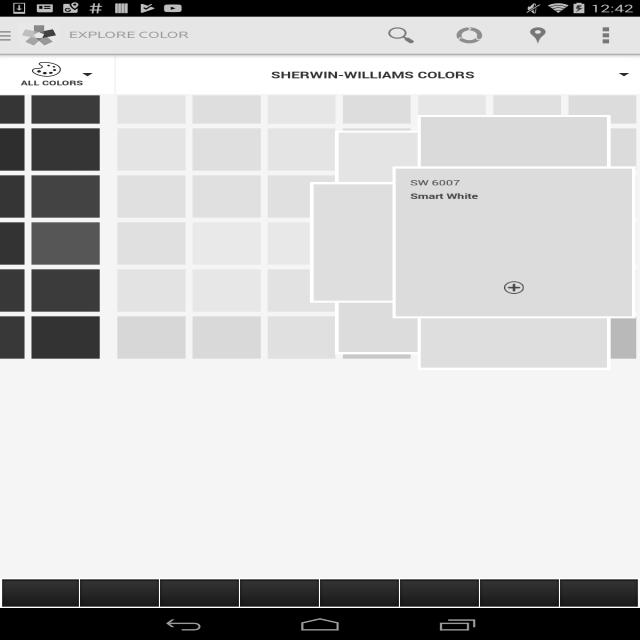ImageButton: (571, 16, 640, 54), (80, 579, 159, 607), (160, 579, 239, 607), (240, 579, 319, 607), (320, 579, 399, 607), (400, 579, 479, 607), (480, 579, 559, 607), (560, 579, 638, 607), (2, 579, 79, 607)
ImageView: (0, 54, 640, 58), (80, 579, 159, 607), (160, 579, 239, 607), (240, 579, 319, 607), (320, 579, 399, 607), (400, 579, 479, 607), (480, 579, 559, 607), (560, 579, 638, 607), (2, 579, 79, 607), (14, 19, 64, 52), (11, 62, 82, 77), (604, 379, 639, 401), (608, 371, 635, 379), (608, 401, 635, 409), (592, 381, 603, 399), (0, 30, 17, 41), (595, 374, 607, 381), (595, 399, 607, 406), (2, 248, 12, 254), (14, 248, 24, 254), (24, 248, 34, 254), (36, 248, 46, 254), (47, 248, 57, 254), (58, 248, 68, 254), (70, 248, 80, 254), (2, 257, 12, 263), (14, 257, 24, 263), (24, 257, 34, 263), (36, 257, 46, 263), (47, 257, 57, 263), (58, 257, 68, 263), (70, 257, 80, 263), (2, 264, 12, 270), (14, 264, 24, 270), (24, 264, 34, 270), (36, 264, 46, 270), (47, 264, 57, 270), (58, 264, 68, 270), (70, 264, 80, 270), (2, 271, 12, 277), (14, 271, 24, 277), (24, 271, 34, 277), (36, 271, 46, 277), (47, 271, 57, 277), (58, 271, 68, 277), (70, 271, 80, 277), (2, 278, 12, 284), (14, 278, 24, 284), (24, 278, 34, 284), (36, 278, 46, 284), (47, 278, 57, 284), (58, 278, 68, 284), (70, 278, 80, 284), (2, 285, 12, 291), (14, 285, 24, 291), (24, 285, 34, 291), (36, 285, 46, 291), (47, 285, 57, 291), (58, 285, 68, 291), (70, 285, 80, 291), (2, 292, 12, 298), (14, 292, 24, 298), (24, 292, 34, 298), (36, 292, 46, 298), (47, 292, 57, 298), (58, 292, 68, 298), (70, 292, 80, 298), (2, 299, 12, 305), (14, 299, 24, 305), (24, 299, 34, 305), (36, 299, 46, 305), (47, 299, 57, 305), (58, 299, 68, 305), (70, 299, 80, 305), (82, 248, 92, 254), (94, 248, 104, 254), (104, 248, 114, 254), (116, 248, 126, 254), (127, 248, 137, 254), (138, 248, 148, 254), (150, 248, 160, 254), (82, 257, 92, 263), (94, 257, 104, 263), (104, 257, 114, 263), (116, 257, 126, 263), (127, 257, 137, 263), (138, 257, 148, 263), (150, 257, 160, 263), (82, 264, 92, 270), (94, 264, 104, 270), (104, 264, 114, 270), (116, 264, 126, 270), (127, 264, 137, 270), (138, 264, 148, 270), (150, 264, 160, 270), (82, 271, 92, 277), (94, 271, 104, 277), (104, 271, 114, 277), (116, 271, 126, 277), (127, 271, 137, 277), (138, 271, 148, 277), (150, 271, 160, 277), (82, 278, 92, 284), (94, 278, 104, 284), (104, 278, 114, 284), (116, 278, 126, 284), (127, 278, 137, 284), (138, 278, 148, 284), (150, 278, 160, 284), (82, 285, 92, 291), (94, 285, 104, 291), (104, 285, 114, 291), (116, 285, 126, 291), (127, 285, 137, 291), (138, 285, 148, 291), (150, 285, 160, 291), (82, 292, 92, 298), (94, 292, 104, 298), (104, 292, 114, 298), (116, 292, 126, 298), (127, 292, 137, 298), (138, 292, 148, 298), (150, 292, 160, 298), (82, 299, 92, 305), (94, 299, 104, 305), (104, 299, 114, 305), (116, 299, 126, 305), (127, 299, 137, 305), (138, 299, 148, 305), (150, 299, 160, 305), (162, 248, 172, 254), (174, 248, 184, 254), (184, 248, 194, 254), (196, 248, 206, 254), (207, 248, 217, 254), (218, 248, 228, 254), (230, 248, 240, 254), (162, 257, 172, 263), (174, 257, 184, 263), (184, 257, 194, 263), (196, 257, 206, 263), (207, 257, 217, 263), (218, 257, 228, 263), (230, 257, 240, 263), (162, 264, 172, 270), (174, 264, 184, 270), (184, 264, 194, 270), (196, 264, 206, 270), (207, 264, 217, 270), (218, 264, 228, 270), (230, 264, 240, 270), (162, 271, 172, 277), (174, 271, 184, 277), (184, 271, 194, 277), (196, 271, 206, 277), (207, 271, 217, 277), (218, 271, 228, 277), (230, 271, 240, 277), (162, 278, 172, 284), (174, 278, 184, 284), (184, 278, 194, 284), (196, 278, 206, 284), (207, 278, 217, 284), (218, 278, 228, 284), (230, 278, 240, 284), (162, 285, 172, 291), (174, 285, 184, 291), (184, 285, 194, 291), (196, 285, 206, 291), (207, 285, 217, 291), (218, 285, 228, 291), (230, 285, 240, 291), (162, 292, 172, 298), (174, 292, 184, 298), (184, 292, 194, 298), (196, 292, 206, 298), (207, 292, 217, 298), (218, 292, 228, 298), (230, 292, 240, 298), (162, 299, 172, 305), (174, 299, 184, 305), (184, 299, 194, 305), (196, 299, 206, 305), (207, 299, 217, 305), (218, 299, 228, 305), (230, 299, 240, 305), (242, 248, 252, 254), (254, 248, 264, 254), (264, 248, 274, 254), (276, 248, 286, 254), (287, 248, 297, 254), (298, 248, 308, 254), (310, 248, 320, 254), (242, 257, 252, 263), (254, 257, 264, 263), (264, 257, 274, 263), (276, 257, 286, 263), (287, 257, 297, 263), (298, 257, 308, 263), (310, 257, 320, 263), (242, 264, 252, 270), (254, 264, 264, 270), (264, 264, 274, 270), (276, 264, 286, 270), (287, 264, 297, 270), (298, 264, 308, 270), (310, 264, 320, 270), (242, 271, 252, 277), (254, 271, 264, 277), (264, 271, 274, 277), (276, 271, 286, 277), (287, 271, 297, 277), (298, 271, 308, 277), (310, 271, 320, 277), (242, 278, 252, 284), (254, 278, 264, 284), (264, 278, 274, 284), (276, 278, 286, 284), (287, 278, 297, 284), (298, 278, 308, 284), (310, 278, 320, 284), (242, 285, 252, 291), (254, 285, 264, 291), (264, 285, 274, 291), (276, 285, 286, 291), (287, 285, 297, 291), (298, 285, 308, 291), (310, 285, 320, 291), (242, 292, 252, 298), (254, 292, 264, 298), (264, 292, 274, 298), (276, 292, 286, 298), (287, 292, 297, 298), (298, 292, 308, 298), (310, 292, 320, 298), (242, 299, 252, 305), (254, 299, 264, 305), (264, 299, 274, 305), (276, 299, 286, 305), (287, 299, 297, 305), (298, 299, 308, 305), (310, 299, 320, 305), (322, 248, 332, 254), (334, 248, 344, 254), (344, 248, 354, 254), (356, 248, 366, 254), (367, 248, 377, 254), (378, 248, 388, 254), (390, 248, 400, 254), (322, 257, 332, 263), (334, 257, 344, 263), (344, 257, 354, 263), (356, 257, 366, 263), (367, 257, 377, 263), (378, 257, 388, 263), (390, 257, 400, 263), (322, 264, 332, 270), (334, 264, 344, 270), (344, 264, 354, 270), (356, 264, 366, 270), (367, 264, 377, 270), (378, 264, 388, 270), (390, 264, 400, 270), (322, 271, 332, 277), (334, 271, 344, 277), (344, 271, 354, 277), (356, 271, 366, 277), (367, 271, 377, 277), (378, 271, 388, 277), (390, 271, 400, 277), (322, 278, 332, 284), (334, 278, 344, 284), (344, 278, 354, 284), (356, 278, 366, 284), (367, 278, 377, 284), (378, 278, 388, 284), (390, 278, 400, 284), (322, 285, 332, 291), (334, 285, 344, 291), (344, 285, 354, 291), (356, 285, 366, 291), (367, 285, 377, 291), (378, 285, 388, 291), (390, 285, 400, 291), (322, 292, 332, 298), (334, 292, 344, 298), (344, 292, 354, 298), (356, 292, 366, 298), (367, 292, 377, 298), (378, 292, 388, 298), (390, 292, 400, 298), (322, 299, 332, 305), (334, 299, 344, 305), (344, 299, 354, 305), (356, 299, 366, 305), (367, 299, 377, 305), (378, 299, 388, 305), (390, 299, 400, 305), (402, 248, 412, 254), (414, 248, 424, 254), (424, 248, 434, 254), (436, 248, 446, 254), (447, 248, 457, 254), (458, 248, 468, 254), (470, 248, 480, 254), (402, 257, 412, 263), (414, 257, 424, 263), (424, 257, 434, 263), (436, 257, 446, 263), (447, 257, 457, 263), (458, 257, 468, 263), (470, 257, 480, 263), (402, 264, 412, 270), (414, 264, 424, 270), (424, 264, 434, 270), (436, 264, 446, 270), (447, 264, 457, 270), (458, 264, 468, 270), (470, 264, 480, 270), (402, 271, 412, 277), (414, 271, 424, 277), (424, 271, 434, 277), (436, 271, 446, 277), (447, 271, 457, 277), (458, 271, 468, 277), (470, 271, 480, 277), (402, 278, 412, 284), (414, 278, 424, 284), (424, 278, 434, 284), (436, 278, 446, 284), (447, 278, 457, 284), (458, 278, 468, 284), (470, 278, 480, 284), (402, 285, 412, 291), (414, 285, 424, 291), (424, 285, 434, 291), (436, 285, 446, 291), (447, 285, 457, 291), (458, 285, 468, 291), (470, 285, 480, 291), (402, 292, 412, 298), (414, 292, 424, 298), (424, 292, 434, 298), (436, 292, 446, 298), (447, 292, 457, 298), (458, 292, 468, 298), (470, 292, 480, 298), (402, 299, 412, 305), (414, 299, 424, 305), (424, 299, 434, 305), (436, 299, 446, 305), (447, 299, 457, 305), (458, 299, 468, 305), (470, 299, 480, 305), (482, 248, 492, 254), (494, 248, 504, 254), (504, 248, 514, 254), (516, 248, 526, 254), (527, 248, 537, 254), (538, 248, 548, 254), (550, 248, 560, 254), (482, 257, 492, 263), (494, 257, 504, 263), (504, 257, 514, 263), (516, 257, 526, 263), (527, 257, 537, 263), (538, 257, 548, 263), (550, 257, 560, 263), (482, 264, 492, 270), (494, 264, 504, 270), (504, 264, 514, 270), (516, 264, 526, 270), (527, 264, 537, 270), (538, 264, 548, 270), (550, 264, 560, 270), (482, 271, 492, 277), (494, 271, 504, 277), (504, 271, 514, 277), (516, 271, 526, 277), (527, 271, 537, 277), (538, 271, 548, 277), (550, 271, 560, 277), (482, 278, 492, 284), (494, 278, 504, 284), (504, 278, 514, 284), (516, 278, 526, 284), (527, 278, 537, 284), (538, 278, 548, 284), (550, 278, 560, 284), (482, 285, 492, 291), (494, 285, 504, 291), (504, 285, 514, 291), (516, 285, 526, 291), (527, 285, 537, 291), (538, 285, 548, 291), (550, 285, 560, 291), (482, 292, 492, 298), (494, 292, 504, 298), (504, 292, 514, 298), (516, 292, 526, 298), (527, 292, 537, 298), (538, 292, 548, 298), (550, 292, 560, 298), (482, 299, 492, 305), (494, 299, 504, 305), (504, 299, 514, 305), (516, 299, 526, 305), (527, 299, 537, 305), (538, 299, 548, 305), (550, 299, 560, 305), (562, 248, 572, 254), (574, 248, 584, 254), (584, 248, 594, 254), (596, 248, 606, 254), (607, 248, 617, 254), (618, 248, 628, 254), (630, 248, 640, 254), (562, 257, 572, 263), (574, 257, 584, 263), (584, 257, 594, 263), (596, 257, 606, 263), (607, 257, 617, 263), (618, 257, 628, 263), (630, 257, 640, 263), (562, 264, 572, 270), (574, 264, 584, 270), (584, 264, 594, 270), (596, 264, 606, 270), (607, 264, 617, 270), (618, 264, 628, 270), (630, 264, 640, 270), (562, 271, 572, 277), (574, 271, 584, 277), (584, 271, 594, 277), (596, 271, 606, 277), (607, 271, 617, 277), (618, 271, 628, 277), (630, 271, 640, 277), (562, 278, 572, 284), (574, 278, 584, 284), (584, 278, 594, 284), (596, 278, 606, 284), (607, 278, 617, 284), (618, 278, 628, 284), (630, 278, 640, 284), (562, 285, 572, 291), (574, 285, 584, 291), (584, 285, 594, 291), (596, 285, 606, 291), (607, 285, 617, 291), (618, 285, 628, 291), (630, 285, 640, 291), (562, 292, 572, 298), (574, 292, 584, 298), (584, 292, 594, 298), (596, 292, 606, 298), (607, 292, 617, 298), (618, 292, 628, 298), (630, 292, 640, 298), (562, 299, 572, 305), (574, 299, 584, 305), (584, 299, 594, 305), (596, 299, 606, 305), (607, 299, 617, 305), (618, 299, 628, 305), (630, 299, 640, 305), (2, 308, 12, 314), (14, 308, 24, 314), (24, 308, 34, 314), (36, 308, 46, 314), (47, 308, 57, 314), (58, 308, 68, 314), (70, 308, 80, 314), (2, 315, 12, 321), (14, 315, 24, 321), (24, 315, 34, 321), (36, 315, 46, 321), (47, 315, 57, 321), (58, 315, 68, 321), (70, 315, 80, 321), (2, 322, 12, 328), (14, 322, 24, 328), (24, 322, 34, 328), (36, 322, 46, 328), (47, 322, 57, 328), (58, 322, 68, 328), (70, 322, 80, 328), (2, 329, 12, 335), (14, 329, 24, 335), (24, 329, 34, 335), (36, 329, 46, 335), (47, 329, 57, 335), (58, 329, 68, 335), (70, 329, 80, 335), (2, 336, 12, 342), (14, 336, 24, 342), (24, 336, 34, 342), (36, 336, 46, 342), (47, 336, 57, 342), (58, 336, 68, 342), (70, 336, 80, 342), (2, 343, 12, 349), (14, 343, 24, 349), (24, 343, 34, 349), (36, 343, 46, 349), (47, 343, 57, 349), (58, 343, 68, 349), (70, 343, 80, 349), (2, 350, 12, 356), (14, 350, 24, 356), (24, 350, 34, 356), (36, 350, 46, 356), (47, 350, 57, 356), (58, 350, 68, 356), (70, 350, 80, 356), (82, 308, 92, 314), (94, 308, 104, 314), (104, 308, 114, 314), (116, 308, 126, 314), (127, 308, 137, 314), (138, 308, 148, 314), (150, 308, 160, 314), (82, 315, 92, 321), (94, 315, 104, 321), (104, 315, 114, 321), (116, 315, 126, 321), (127, 315, 137, 321), (138, 315, 148, 321), (150, 315, 160, 321), (82, 322, 92, 328), (94, 322, 104, 328), (104, 322, 114, 328), (116, 322, 126, 328), (127, 322, 137, 328), (138, 322, 148, 328), (150, 322, 160, 328), (82, 329, 92, 335), (94, 329, 104, 335), (104, 329, 114, 335), (116, 329, 126, 335), (127, 329, 137, 335), (138, 329, 148, 335), (150, 329, 160, 335), (82, 336, 92, 342), (94, 336, 104, 342), (104, 336, 114, 342), (116, 336, 126, 342), (127, 336, 137, 342), (138, 336, 148, 342), (150, 336, 160, 342), (82, 343, 92, 349), (94, 343, 104, 349), (104, 343, 114, 349), (116, 343, 126, 349), (127, 343, 137, 349), (138, 343, 148, 349), (150, 343, 160, 349), (82, 350, 92, 356), (94, 350, 104, 356), (104, 350, 114, 356), (116, 350, 126, 356), (127, 350, 137, 356), (138, 350, 148, 356), (150, 350, 160, 356), (162, 308, 172, 314), (174, 308, 184, 314), (184, 308, 194, 314), (196, 308, 206, 314), (207, 308, 217, 314), (218, 308, 228, 314), (230, 308, 240, 314), (162, 315, 172, 321), (174, 315, 184, 321), (184, 315, 194, 321), (196, 315, 206, 321), (207, 315, 217, 321), (218, 315, 228, 321), (230, 315, 240, 321), (162, 322, 172, 328), (174, 322, 184, 328), (184, 322, 194, 328), (196, 322, 206, 328), (207, 322, 217, 328), (218, 322, 228, 328), (230, 322, 240, 328), (162, 329, 172, 335), (174, 329, 184, 335), (184, 329, 194, 335), (196, 329, 206, 335), (207, 329, 217, 335), (218, 329, 228, 335), (230, 329, 240, 335), (162, 336, 172, 342), (174, 336, 184, 342), (184, 336, 194, 342), (196, 336, 206, 342), (207, 336, 217, 342), (218, 336, 228, 342), (230, 336, 240, 342), (162, 343, 172, 349), (174, 343, 184, 349), (184, 343, 194, 349), (196, 343, 206, 349), (207, 343, 217, 349), (218, 343, 228, 349), (230, 343, 240, 349), (162, 350, 172, 356), (174, 350, 184, 356), (184, 350, 194, 356), (196, 350, 206, 356), (207, 350, 217, 356), (218, 350, 228, 356), (230, 350, 240, 356), (242, 308, 252, 314), (254, 308, 264, 314), (264, 308, 274, 314), (276, 308, 286, 314), (287, 308, 297, 314), (298, 308, 308, 314), (310, 308, 320, 314), (242, 315, 252, 321), (254, 315, 264, 321), (264, 315, 274, 321), (276, 315, 286, 321), (287, 315, 297, 321), (298, 315, 308, 321), (310, 315, 320, 321), (242, 322, 252, 328), (254, 322, 264, 328), (264, 322, 274, 328), (276, 322, 286, 328), (287, 322, 297, 328), (298, 322, 308, 328), (310, 322, 320, 328), (242, 329, 252, 335), (254, 329, 264, 335), (264, 329, 274, 335), (276, 329, 286, 335), (287, 329, 297, 335), (298, 329, 308, 335), (310, 329, 320, 335), (242, 336, 252, 342), (254, 336, 264, 342), (264, 336, 274, 342), (276, 336, 286, 342), (287, 336, 297, 342), (298, 336, 308, 342), (310, 336, 320, 342), (242, 343, 252, 349), (254, 343, 264, 349), (264, 343, 274, 349), (276, 343, 286, 349), (287, 343, 297, 349), (298, 343, 308, 349), (310, 343, 320, 349), (242, 350, 252, 356), (254, 350, 264, 356), (264, 350, 274, 356), (276, 350, 286, 356), (287, 350, 297, 356), (298, 350, 308, 356), (310, 350, 320, 356), (322, 308, 332, 314), (334, 308, 344, 314), (344, 308, 354, 314), (356, 308, 366, 314), (367, 308, 377, 314), (378, 308, 388, 314), (390, 308, 400, 314), (322, 315, 332, 321), (334, 315, 344, 321), (344, 315, 354, 321), (356, 315, 366, 321), (367, 315, 377, 321), (378, 315, 388, 321), (390, 315, 400, 321), (322, 322, 332, 328), (334, 322, 344, 328), (344, 322, 354, 328), (356, 322, 366, 328), (367, 322, 377, 328), (378, 322, 388, 328), (390, 322, 400, 328), (322, 329, 332, 335), (334, 329, 344, 335), (344, 329, 354, 335), (356, 329, 366, 335), (367, 329, 377, 335), (378, 329, 388, 335), (390, 329, 400, 335), (322, 336, 332, 342), (334, 336, 344, 342), (344, 336, 354, 342), (356, 336, 366, 342), (367, 336, 377, 342), (378, 336, 388, 342), (390, 336, 400, 342), (322, 343, 332, 349), (334, 343, 344, 349), (344, 343, 354, 349), (356, 343, 366, 349), (367, 343, 377, 349), (378, 343, 388, 349), (390, 343, 400, 349), (322, 350, 332, 356), (334, 350, 344, 356), (344, 350, 354, 356), (356, 350, 366, 356), (367, 350, 377, 356), (378, 350, 388, 356), (390, 350, 400, 356), (402, 308, 412, 314), (414, 308, 424, 314), (424, 308, 434, 314), (436, 308, 446, 314), (447, 308, 457, 314), (458, 308, 468, 314), (470, 308, 480, 314), (402, 315, 412, 321), (414, 315, 424, 321), (424, 315, 434, 321), (436, 315, 446, 321), (447, 315, 457, 321), (458, 315, 468, 321), (470, 315, 480, 321), (402, 322, 412, 328), (414, 322, 424, 328), (424, 322, 434, 328), (436, 322, 446, 328), (447, 322, 457, 328), (458, 322, 468, 328), (470, 322, 480, 328), (402, 329, 412, 335), (414, 329, 424, 335), (424, 329, 434, 335), (436, 329, 446, 335), (447, 329, 457, 335), (458, 329, 468, 335), (470, 329, 480, 335), (402, 336, 412, 342), (414, 336, 424, 342), (424, 336, 434, 342), (436, 336, 446, 342), (447, 336, 457, 342), (458, 336, 468, 342), (470, 336, 480, 342), (402, 343, 412, 349), (414, 343, 424, 349), (424, 343, 434, 349), (436, 343, 446, 349), (447, 343, 457, 349), (458, 343, 468, 349), (470, 343, 480, 349), (402, 350, 412, 356), (414, 350, 424, 356), (424, 350, 434, 356), (436, 350, 446, 356), (447, 350, 457, 356), (458, 350, 468, 356), (470, 350, 480, 356), (482, 308, 492, 314), (494, 308, 504, 314), (504, 308, 514, 314), (516, 308, 526, 314), (527, 308, 537, 314), (538, 308, 548, 314), (550, 308, 560, 314), (482, 315, 492, 321), (494, 315, 504, 321), (504, 315, 514, 321), (516, 315, 526, 321), (527, 315, 537, 321), (538, 315, 548, 321), (550, 315, 560, 321), (482, 322, 492, 328), (494, 322, 504, 328), (504, 322, 514, 328), (516, 322, 526, 328), (527, 322, 537, 328), (538, 322, 548, 328), (550, 322, 560, 328), (482, 329, 492, 335), (494, 329, 504, 335), (504, 329, 514, 335), (516, 329, 526, 335), (527, 329, 537, 335), (538, 329, 548, 335), (550, 329, 560, 335), (482, 336, 492, 342), (494, 336, 504, 342), (504, 336, 514, 342), (516, 336, 526, 342), (527, 336, 537, 342), (538, 336, 548, 342), (550, 336, 560, 342), (482, 343, 492, 349), (494, 343, 504, 349), (504, 343, 514, 349), (516, 343, 526, 349), (527, 343, 537, 349), (538, 343, 548, 349), (550, 343, 560, 349), (482, 350, 492, 356), (494, 350, 504, 356), (504, 350, 514, 356), (516, 350, 526, 356), (527, 350, 537, 356), (538, 350, 548, 356), (550, 350, 560, 356), (562, 308, 572, 314), (574, 308, 584, 314), (584, 308, 594, 314), (596, 308, 606, 314), (607, 308, 617, 314), (618, 308, 628, 314), (630, 308, 640, 314), (562, 315, 572, 321), (574, 315, 584, 321), (584, 315, 594, 321), (596, 315, 606, 321), (607, 315, 617, 321), (618, 315, 628, 321), (630, 315, 640, 321), (562, 322, 572, 328), (574, 322, 584, 328), (584, 322, 594, 328), (596, 322, 606, 328), (607, 322, 617, 328), (618, 322, 628, 328), (630, 322, 640, 328), (562, 329, 572, 335), (574, 329, 584, 335), (584, 329, 594, 335), (596, 329, 606, 335), (607, 329, 617, 335), (618, 329, 628, 335), (630, 329, 640, 335), (562, 336, 572, 342), (574, 336, 584, 342), (584, 336, 594, 342), (596, 336, 606, 342), (607, 336, 617, 342), (618, 336, 628, 342), (630, 336, 640, 342), (562, 343, 572, 349), (574, 343, 584, 349), (584, 343, 594, 349), (596, 343, 606, 349), (607, 343, 617, 349), (618, 343, 628, 349), (630, 343, 640, 349), (562, 350, 572, 356), (574, 350, 584, 356), (584, 350, 594, 356), (596, 350, 606, 356), (607, 350, 617, 356), (618, 350, 628, 356), (630, 350, 640, 356), (2, 359, 12, 365), (14, 359, 24, 365), (24, 359, 34, 365), (36, 359, 46, 365), (47, 359, 57, 365), (58, 359, 68, 365), (70, 359, 80, 365), (2, 366, 12, 372), (14, 366, 24, 372), (24, 366, 34, 372), (36, 366, 46, 372), (47, 366, 57, 372), (58, 366, 68, 372), (70, 366, 80, 372), (2, 373, 12, 379), (14, 373, 24, 379), (24, 373, 34, 379), (36, 373, 46, 379), (47, 373, 57, 379), (58, 373, 68, 379), (70, 373, 80, 379), (2, 380, 12, 386), (14, 380, 24, 386), (24, 380, 34, 386), (36, 380, 46, 386), (47, 380, 57, 386), (58, 380, 68, 386), (70, 380, 80, 386), (2, 387, 12, 393), (14, 387, 24, 393), (24, 387, 34, 393), (36, 387, 46, 393), (47, 387, 57, 393), (58, 387, 68, 393), (70, 387, 80, 393), (2, 394, 12, 400), (14, 394, 24, 400), (24, 394, 34, 400), (36, 394, 46, 400), (47, 394, 57, 400), (58, 394, 68, 400), (70, 394, 80, 400), (2, 401, 12, 407), (14, 401, 24, 407), (24, 401, 34, 407), (36, 401, 46, 407), (47, 401, 57, 407), (58, 401, 68, 407), (70, 401, 80, 407), (82, 359, 92, 365), (94, 359, 104, 365), (104, 359, 114, 365), (116, 359, 126, 365), (127, 359, 137, 365), (138, 359, 148, 365), (150, 359, 160, 365), (82, 366, 92, 372), (94, 366, 104, 372), (104, 366, 114, 372), (116, 366, 126, 372), (127, 366, 137, 372), (138, 366, 148, 372), (150, 366, 160, 372), (82, 373, 92, 379), (94, 373, 104, 379), (104, 373, 114, 379), (116, 373, 126, 379), (127, 373, 137, 379), (138, 373, 148, 379), (150, 373, 160, 379), (82, 380, 92, 386), (94, 380, 104, 386), (104, 380, 114, 386), (116, 380, 126, 386), (127, 380, 137, 386), (138, 380, 148, 386), (150, 380, 160, 386), (82, 387, 92, 393), (94, 387, 104, 393), (104, 387, 114, 393), (116, 387, 126, 393), (127, 387, 137, 393), (138, 387, 148, 393), (150, 387, 160, 393), (82, 394, 92, 400), (94, 394, 104, 400), (104, 394, 114, 400), (116, 394, 126, 400), (127, 394, 137, 400), (138, 394, 148, 400), (150, 394, 160, 400), (82, 401, 92, 407), (94, 401, 104, 407), (104, 401, 114, 407), (116, 401, 126, 407), (127, 401, 137, 407), (138, 401, 148, 407), (150, 401, 160, 407), (162, 359, 172, 365), (174, 359, 184, 365), (184, 359, 194, 365), (196, 359, 206, 365), (207, 359, 217, 365), (218, 359, 228, 365), (230, 359, 240, 365), (162, 366, 172, 372), (174, 366, 184, 372), (184, 366, 194, 372), (196, 366, 206, 372), (207, 366, 217, 372), (218, 366, 228, 372), (230, 366, 240, 372), (162, 373, 172, 379), (174, 373, 184, 379), (184, 373, 194, 379), (196, 373, 206, 379), (207, 373, 217, 379), (218, 373, 228, 379), (230, 373, 240, 379), (162, 380, 172, 386), (174, 380, 184, 386), (184, 380, 194, 386), (196, 380, 206, 386), (207, 380, 217, 386), (218, 380, 228, 386), (230, 380, 240, 386), (162, 387, 172, 393), (174, 387, 184, 393), (184, 387, 194, 393), (196, 387, 206, 393), (207, 387, 217, 393), (218, 387, 228, 393), (230, 387, 240, 393), (162, 394, 172, 400), (174, 394, 184, 400), (184, 394, 194, 400), (196, 394, 206, 400), (207, 394, 217, 400), (218, 394, 228, 400), (230, 394, 240, 400), (162, 401, 172, 407), (174, 401, 184, 407), (184, 401, 194, 407), (196, 401, 206, 407), (207, 401, 217, 407), (218, 401, 228, 407), (230, 401, 240, 407), (242, 359, 252, 365), (254, 359, 264, 365), (264, 359, 274, 365), (276, 359, 286, 365), (287, 359, 297, 365), (298, 359, 308, 365), (310, 359, 320, 365), (242, 366, 252, 372), (254, 366, 264, 372), (264, 366, 274, 372), (276, 366, 286, 372), (287, 366, 297, 372), (298, 366, 308, 372), (310, 366, 320, 372), (242, 373, 252, 379), (254, 373, 264, 379), (264, 373, 274, 379), (276, 373, 286, 379), (287, 373, 297, 379), (298, 373, 308, 379), (310, 373, 320, 379), (242, 380, 252, 386), (254, 380, 264, 386), (264, 380, 274, 386), (276, 380, 286, 386), (287, 380, 297, 386), (298, 380, 308, 386), (310, 380, 320, 386), (242, 387, 252, 393), (254, 387, 264, 393), (264, 387, 274, 393), (276, 387, 286, 393), (287, 387, 297, 393), (298, 387, 308, 393), (310, 387, 320, 393), (242, 394, 252, 400), (254, 394, 264, 400), (264, 394, 274, 400), (276, 394, 286, 400), (287, 394, 297, 400), (298, 394, 308, 400), (310, 394, 320, 400), (242, 401, 252, 407), (254, 401, 264, 407), (264, 401, 274, 407), (276, 401, 286, 407), (287, 401, 297, 407), (298, 401, 308, 407), (310, 401, 320, 407), (322, 359, 332, 365), (334, 359, 344, 365), (344, 359, 354, 365), (356, 359, 366, 365), (367, 359, 377, 365), (378, 359, 388, 365), (390, 359, 400, 365), (322, 366, 332, 372), (334, 366, 344, 372), (344, 366, 354, 372), (356, 366, 366, 372), (367, 366, 377, 372), (378, 366, 388, 372), (390, 366, 400, 372), (322, 373, 332, 379), (334, 373, 344, 379), (344, 373, 354, 379), (356, 373, 366, 379), (367, 373, 377, 379), (378, 373, 388, 379), (390, 373, 400, 379), (322, 380, 332, 386), (334, 380, 344, 386), (344, 380, 354, 386), (356, 380, 366, 386), (367, 380, 377, 386), (378, 380, 388, 386), (390, 380, 400, 386), (322, 387, 332, 393), (334, 387, 344, 393), (344, 387, 354, 393), (356, 387, 366, 393), (367, 387, 377, 393), (378, 387, 388, 393), (390, 387, 400, 393), (322, 394, 332, 400), (334, 394, 344, 400), (344, 394, 354, 400), (356, 394, 366, 400), (367, 394, 377, 400), (378, 394, 388, 400), (390, 394, 400, 400), (322, 401, 332, 407), (334, 401, 344, 407), (344, 401, 354, 407), (356, 401, 366, 407), (367, 401, 377, 407), (378, 401, 388, 407), (390, 401, 400, 407), (402, 359, 412, 365), (414, 359, 424, 365), (424, 359, 434, 365), (436, 359, 446, 365), (447, 359, 457, 365), (458, 359, 468, 365), (470, 359, 480, 365), (402, 366, 412, 372), (414, 366, 424, 372), (424, 366, 434, 372), (436, 366, 446, 372), (447, 366, 457, 372), (458, 366, 468, 372), (470, 366, 480, 372), (402, 373, 412, 379), (414, 373, 424, 379), (424, 373, 434, 379), (436, 373, 446, 379), (447, 373, 457, 379), (458, 373, 468, 379), (470, 373, 480, 379), (402, 380, 412, 386), (414, 380, 424, 386), (424, 380, 434, 386), (436, 380, 446, 386), (447, 380, 457, 386), (458, 380, 468, 386), (470, 380, 480, 386), (402, 387, 412, 393), (414, 387, 424, 393), (424, 387, 434, 393), (436, 387, 446, 393), (447, 387, 457, 393), (458, 387, 468, 393), (470, 387, 480, 393), (402, 394, 412, 400), (414, 394, 424, 400), (424, 394, 434, 400), (436, 394, 446, 400), (447, 394, 457, 400), (458, 394, 468, 400), (470, 394, 480, 400), (402, 401, 412, 407), (414, 401, 424, 407), (424, 401, 434, 407), (436, 401, 446, 407), (447, 401, 457, 407), (458, 401, 468, 407), (470, 401, 480, 407), (482, 359, 492, 365), (494, 359, 504, 365), (504, 359, 514, 365), (516, 359, 526, 365), (527, 359, 537, 365), (538, 359, 548, 365), (550, 359, 560, 365), (482, 366, 492, 372), (494, 366, 504, 372), (504, 366, 514, 372), (516, 366, 526, 372), (527, 366, 537, 372), (538, 366, 548, 372), (550, 366, 560, 372), (482, 373, 492, 379), (494, 373, 504, 379), (504, 373, 514, 379), (516, 373, 526, 379), (527, 373, 537, 379), (538, 373, 548, 379), (550, 373, 560, 379), (482, 380, 492, 386), (494, 380, 504, 386), (504, 380, 514, 386), (516, 380, 526, 386), (527, 380, 537, 386), (538, 380, 548, 386), (550, 380, 560, 386), (482, 387, 492, 393), (494, 387, 504, 393), (504, 387, 514, 393), (516, 387, 526, 393), (527, 387, 537, 393), (538, 387, 548, 393), (550, 387, 560, 393), (482, 394, 492, 400), (494, 394, 504, 400), (504, 394, 514, 400), (516, 394, 526, 400), (527, 394, 537, 400), (538, 394, 548, 400), (550, 394, 560, 400), (482, 401, 492, 407), (494, 401, 504, 407), (504, 401, 514, 407), (516, 401, 526, 407), (527, 401, 537, 407), (538, 401, 548, 407), (550, 401, 560, 407), (562, 359, 572, 365), (574, 359, 584, 365), (584, 359, 594, 365), (596, 359, 606, 365), (607, 359, 617, 365), (618, 359, 628, 365), (630, 359, 640, 365), (562, 366, 572, 372), (574, 366, 584, 372), (584, 366, 594, 372), (596, 366, 606, 372), (607, 366, 617, 372), (618, 366, 628, 372), (630, 366, 640, 372), (562, 373, 572, 379), (574, 373, 584, 379), (584, 373, 594, 379), (596, 373, 606, 379), (607, 373, 617, 379), (618, 373, 628, 379), (630, 373, 640, 379), (562, 380, 572, 386), (574, 380, 584, 386), (584, 380, 594, 386), (596, 380, 606, 386), (607, 380, 617, 386), (618, 380, 628, 386), (630, 380, 640, 386), (562, 387, 572, 393), (574, 387, 584, 393), (584, 387, 594, 393), (596, 387, 606, 393), (607, 387, 617, 393), (618, 387, 628, 393), (630, 387, 640, 393), (562, 394, 572, 400), (574, 394, 584, 400), (584, 394, 594, 400), (596, 394, 606, 400), (607, 394, 617, 400), (618, 394, 628, 400), (630, 394, 640, 400), (562, 401, 572, 407), (574, 401, 584, 407), (584, 401, 594, 407), (596, 401, 606, 407), (607, 401, 617, 407), (618, 401, 628, 407), (630, 401, 640, 407), (82, 73, 93, 76), (620, 396, 623, 398)
Spinner: (116, 55, 640, 94), (0, 55, 114, 94)
TextView: (116, 62, 640, 88), (435, 17, 504, 54), (503, 17, 572, 54), (367, 17, 435, 54), (69, 30, 189, 40), (11, 78, 92, 87), (606, 380, 637, 382), (606, 382, 637, 384)
